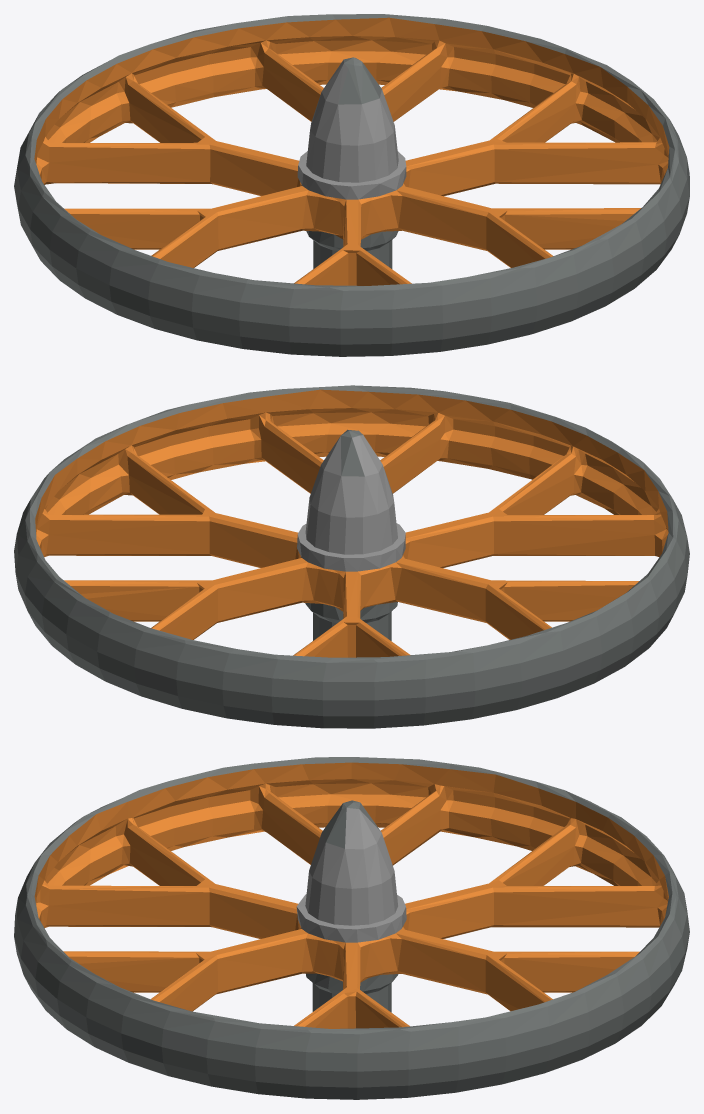
File: wheel.dae
3 renders of one model, top to bottom at view 1: azimuth 30°, elevation 25°; view 2: azimuth 150°, elevation 25°; view 3: azimuth 270°, elevation 25°, orthographic.
Parts seen in each view (by area): view 1: wheel; view 2: wheel; view 3: wheel.
Part boxes in pixels (<box>): wheel: <box>14,14,689,356</box>; wheel: <box>14,385,689,728</box>; wheel: <box>14,757,689,1099</box>.
Size of the model in its own units: 0.0933 by 0.0934 by 0.036.
